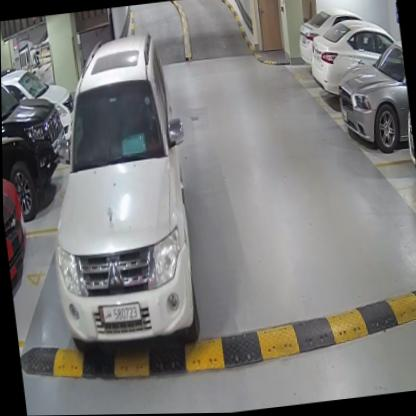np: (96, 298, 141, 326)
